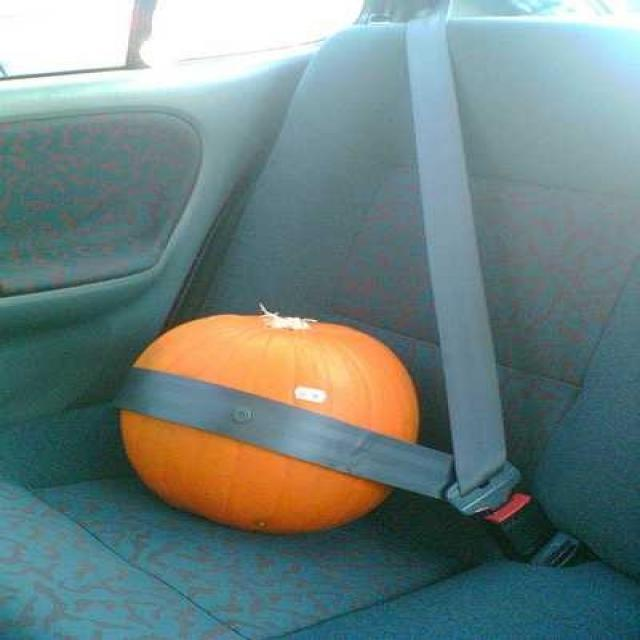seatbelt: (162, 17, 556, 550)
